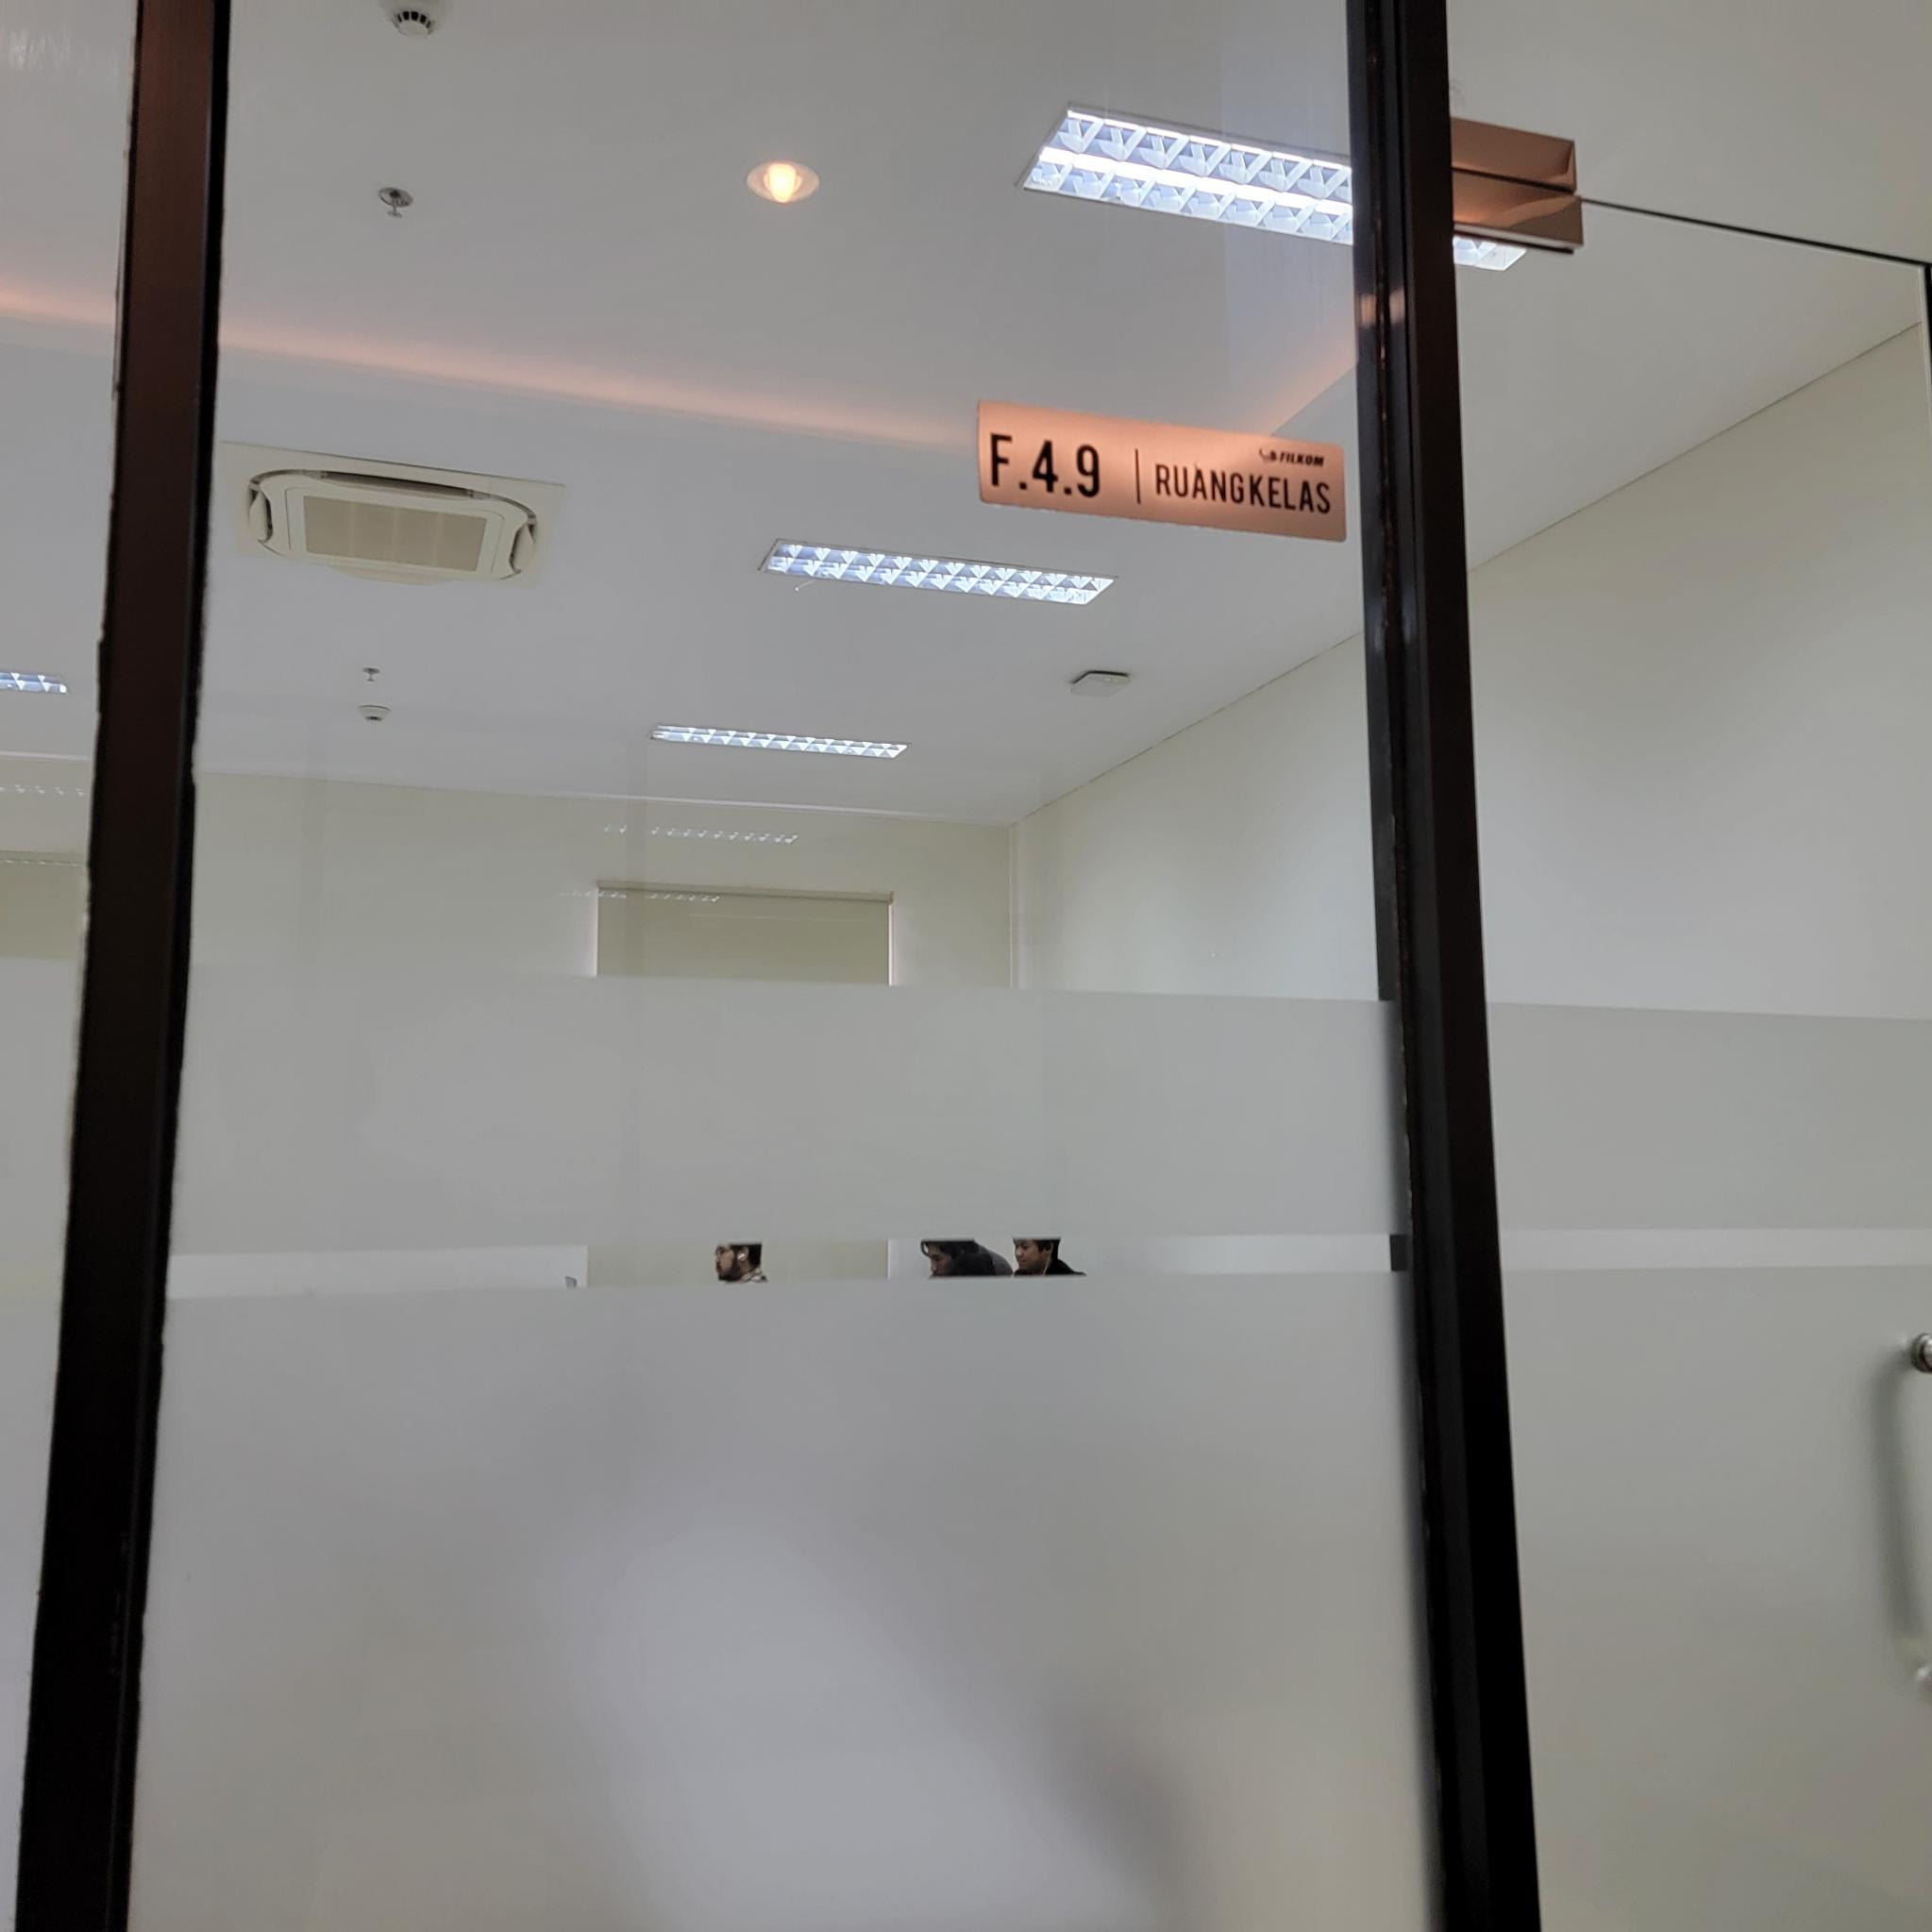plate: (978, 396, 1345, 543)
